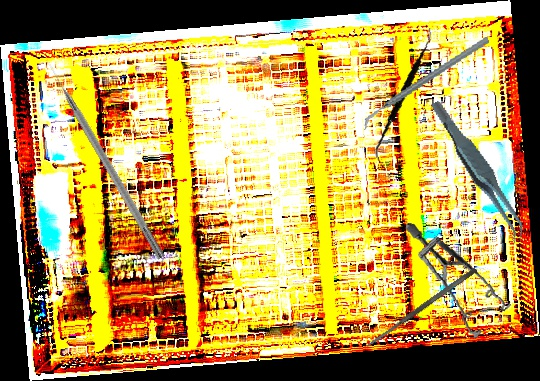Chopper: (351, 35, 501, 131)
Hook Surgical: (42, 56, 167, 261)
Spatula Surgical: (358, 27, 451, 162), (365, 266, 478, 349)
Speculum: (405, 210, 515, 347)
Tissue Forceps: (429, 88, 529, 255)
